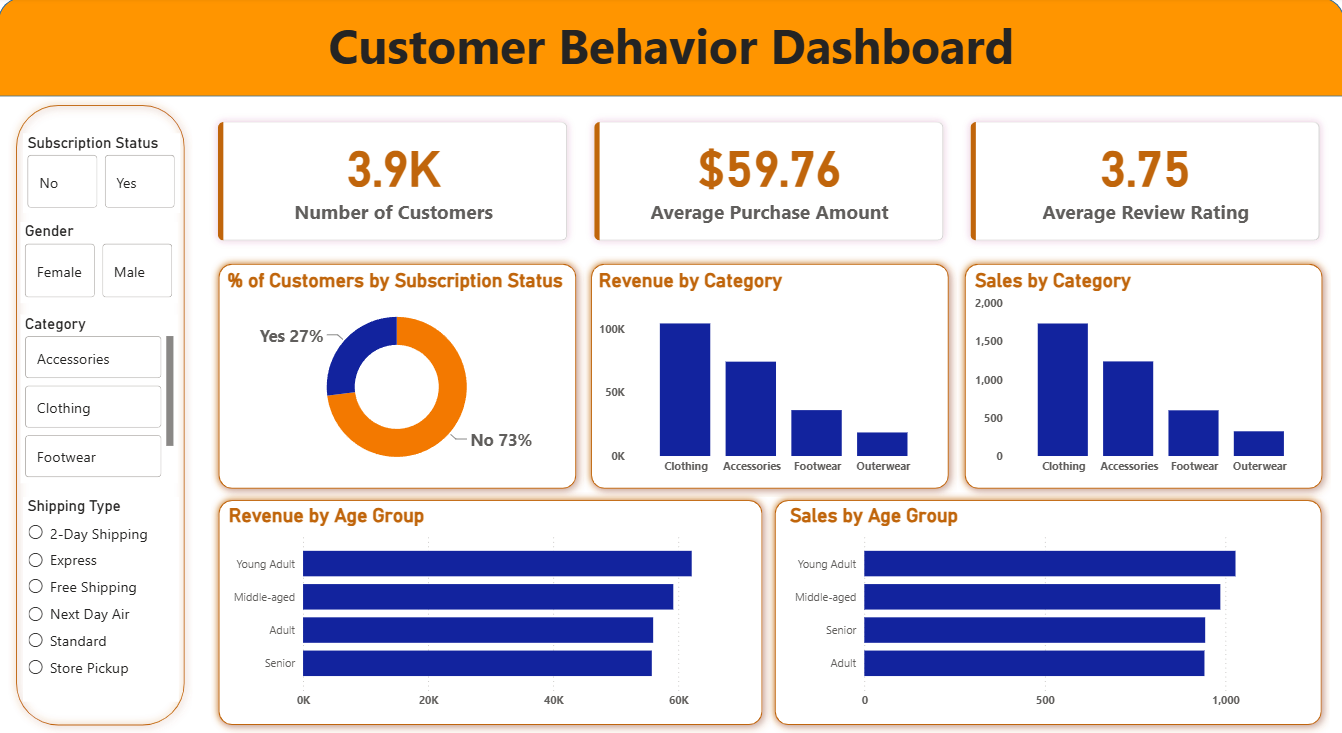

The dashboard page shown, as its layout file describes it:
{"tool":"powerbi","page":{"name":"Page 1","canvas":[1500,820],"ordinal":0},"visuals":[{"type":"cardVisual","fields":{"Data":["public customer.Number of Customers","public customer.Average Purchase Amount","public customer.Average Review Rating"]},"box":[217.1,111,1283.2,188.1],"z":0},{"type":"shape","box":[0,0,1500.3,111],"z":1000},{"type":"textbox","box":[0,12.9,1500.3,98.1],"z":2000},{"type":"shape","box":[236.4,287.8,416.5,268.5],"z":3000},{"type":"donutChart","title":"% of Customers by Subscription Status","fields":{"Category":["public customer.subscription_status"],"Y":["CountNonNull(public customer.customer_id)"]},"box":[250.9,303.4,387.5,238],"z":4000},{"type":"shape","box":[651.3,287.8,416.5,268.5],"z":5000},{"type":"shape","box":[1067.8,287.8,416.5,268.5],"z":6000},{"type":"clusteredColumnChart","title":"Revenue by Category","fields":{"Y":["Sum(public customer.purchase_amount)"],"Category":["public customer.category"]},"box":[664.1,303.4,385.9,238],"z":7000},{"type":"clusteredColumnChart","title":"Sales by Category","fields":{"Y":["CountNonNull(public customer.customer_id)"],"Category":["public customer.category"]},"box":[1083.8,303.4,385.9,238],"z":8000},{"type":"shape","box":[11.3,111,205.8,709.2],"z":9000},{"type":"advancedSlicerVisual","fields":{"Values":["public customer.subscription_status"]},"box":[27.3,151.2,175.3,88.4],"z":10000},{"type":"advancedSlicerVisual","title":"Gender","fields":{"Values":["public customer.gender"]},"box":[25.7,250.9,175.3,90.1],"z":11000},{"type":"advancedSlicerVisual","title":"Category","fields":{"Values":["public customer.category"]},"box":[25.7,353.8,175.3,188.1],"z":12000},{"type":"listSlicer","title":"Shipping Type","fields":{"Values":["public customer.shipping_type"]},"box":[27.3,556.4,173.7,228.3],"z":13000},{"type":"shape","box":[236.4,551.6,623.9,268.5],"z":14000},{"type":"clusteredBarChart","title":"Revenue by Age Group","fields":{"Y":["Sum(public customer.purchase_amount)"],"Category":["public customer.age_group"]},"box":[252.5,566,591.8,236.4],"z":15000},{"type":"shape","box":[857.1,551.6,627.1,268.5],"z":16000},{"type":"clusteredBarChart","title":"Sales  by Age Group","fields":{"Y":["CountNonNull(public customer.customer_id)"],"Category":["public customer.age_group"]},"box":[878,566,591.8,236.4],"z":17000}]}

Visuals, with their boxes in screenshot pixels (x1, y1, x2, y2), scaled from the page's 1500x820 canvas onto the 1342x733 screenshot:
cardVisual - public customer.Number of Customers x public customer.Average Purchase Amount: 194, 99, 1341, 267
shape: 0, 0, 1341, 99
textbox: 0, 12, 1341, 99
shape: 211, 257, 584, 497
"% of Customers by Subscription Status" donutChart: 224, 271, 571, 484
shape: 583, 257, 955, 497
shape: 955, 257, 1328, 497
"Revenue by Category" clusteredColumnChart: 594, 271, 939, 484
"Sales by Category" clusteredColumnChart: 970, 271, 1315, 484
shape: 10, 99, 194, 732
advancedSlicerVisual - public customer.subscription_status: 24, 135, 181, 214
"Gender" advancedSlicerVisual: 23, 224, 180, 305
"Category" advancedSlicerVisual: 23, 316, 180, 484
"Shipping Type" listSlicer: 24, 497, 180, 701
shape: 211, 493, 770, 732
"Revenue by Age Group" clusteredBarChart: 226, 506, 755, 717
shape: 767, 493, 1328, 732
"Sales  by Age Group" clusteredBarChart: 786, 506, 1315, 717
